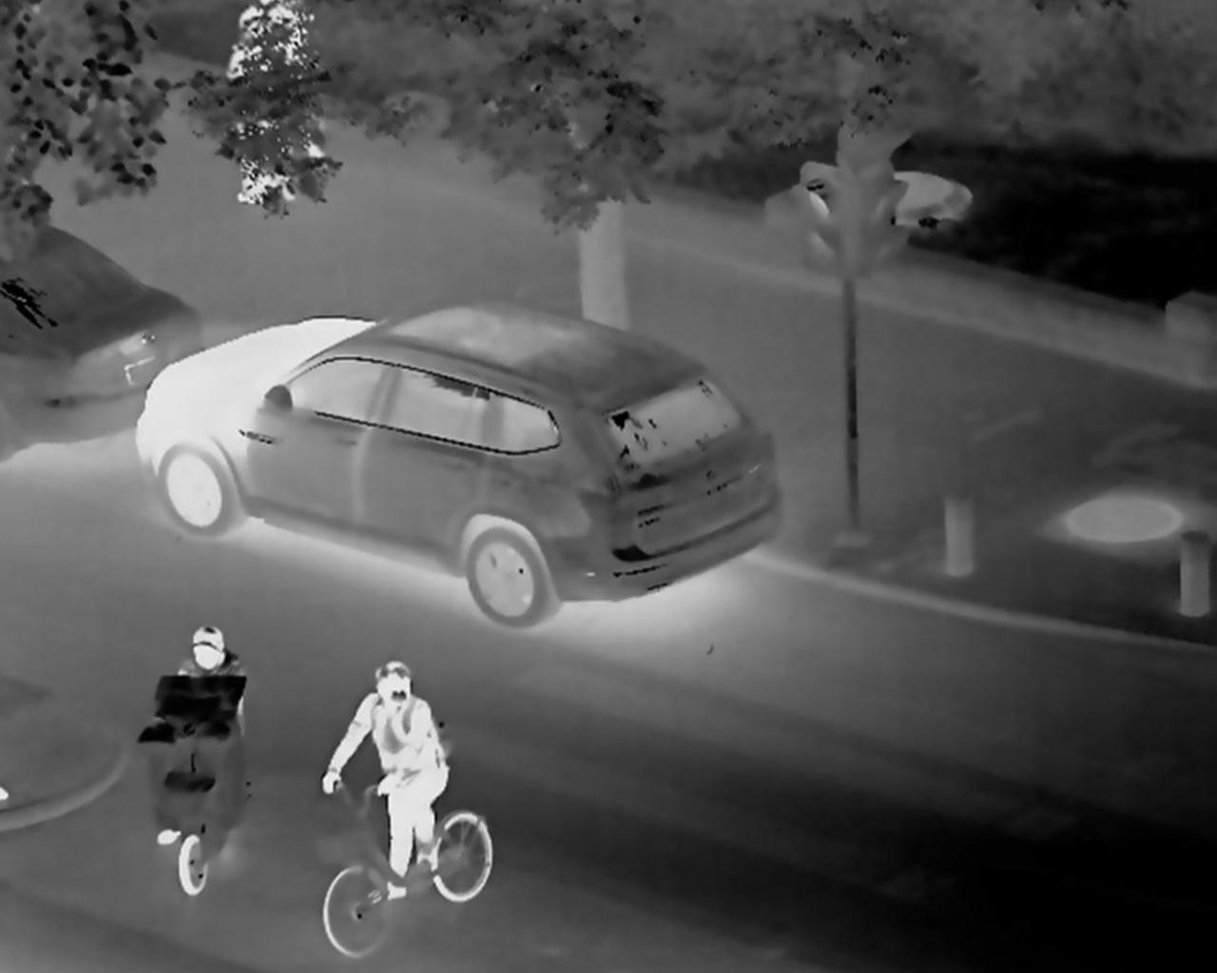person: (319, 660, 453, 902), (151, 626, 248, 849), (220, 2, 305, 208)
